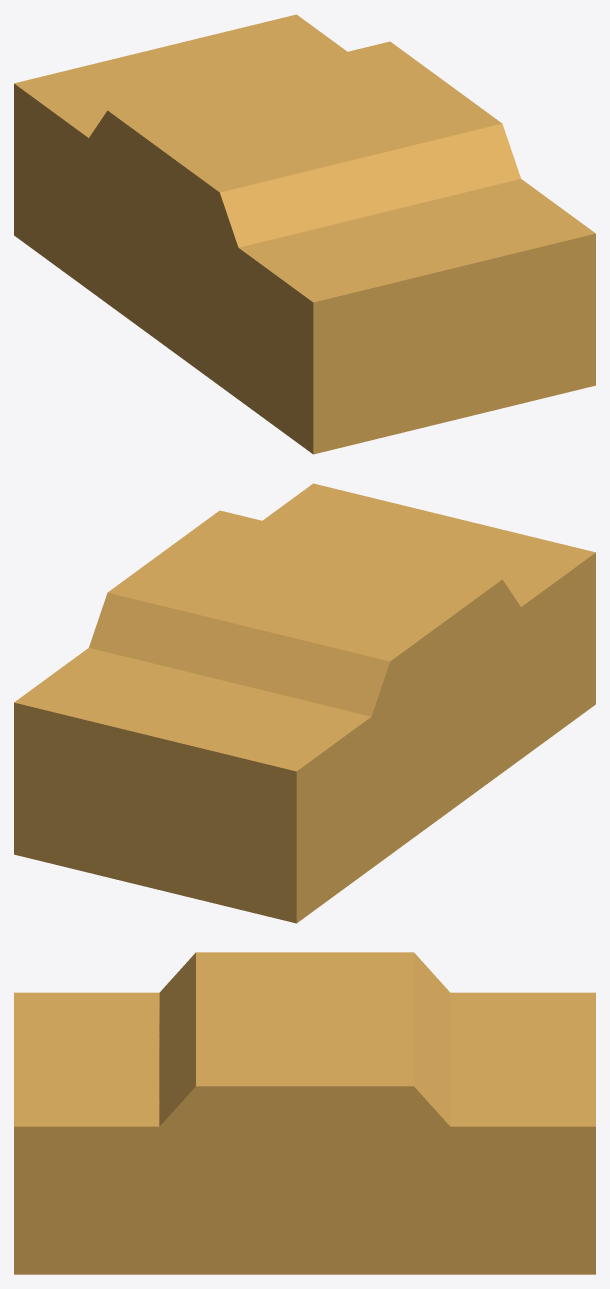
Rendered from podio egioto.fbx.
3 views of the same model, one above another, from view 1: azimuth 30°, elevation 25°; view 2: azimuth 150°, elevation 25°; view 3: azimuth 270°, elevation 25° (orthographic). The views are drawn at different scales.
Parts seen in each view (by area): view 1: Cube; view 2: Cube; view 3: Cube.
Part boxes in pixels (left/top/right/bottom): Cube: left=14, top=14, right=595, bottom=454; Cube: left=14, top=483, right=595, bottom=923; Cube: left=14, top=952, right=595, bottom=1274.
Bounding box in the file's own units: 200 × 131 × 367.
